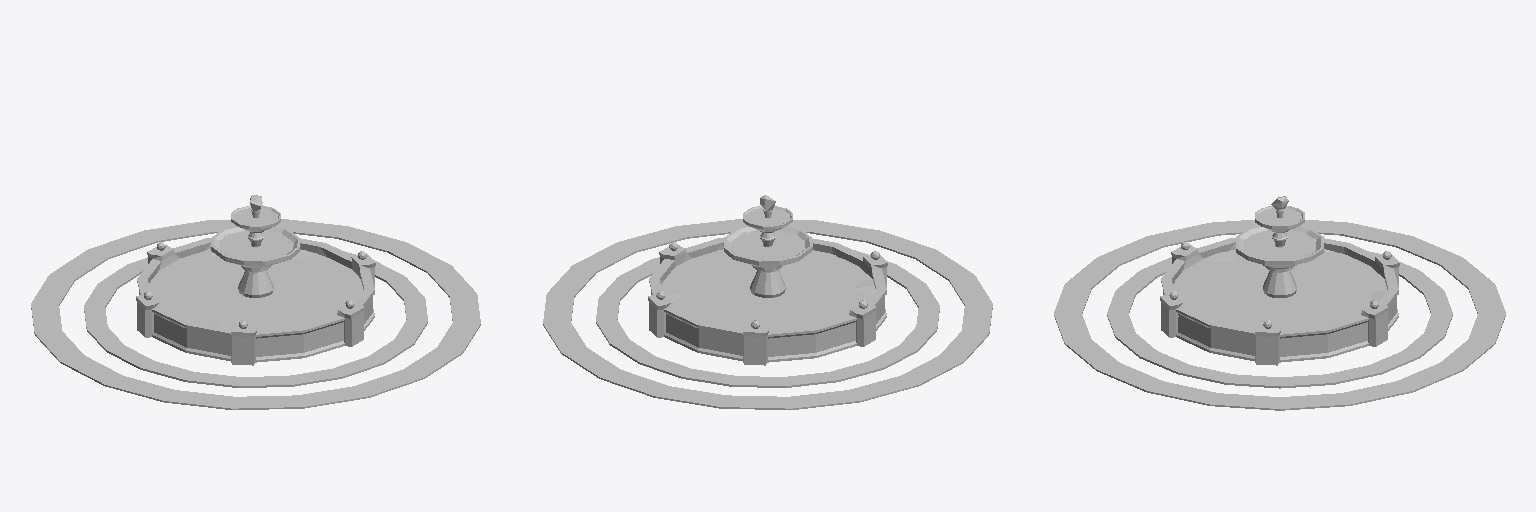
Rendered from Fountain2.obj.
3 renders of one model, left to right at view 1: azimuth 30°, elevation 25°; view 2: azimuth 150°, elevation 25°; view 3: azimuth 270°, elevation 25°, orthographic.
Parts seen in each view (by area): view 1: Fountain Base_Bevel_Outer Ground_stuff, Fountain Water_Bottom Water, Fountain_Ring Bowls Fountain, Fountain Ground_stuff Base_Bevel_Inner, Fountain Water Water_Bottom1, Bowls Fountain Bowl_Bottom, Fountain Pillars Pillar_Block_Base, Fountain Water Water_Bottom2; view 2: Fountain Base_Bevel_Outer Ground_stuff, Fountain Water_Bottom Water, Fountain_Ring Bowls Fountain, Fountain Ground_stuff Base_Bevel_Inner, Fountain Water Water_Bottom1, Bowls Fountain Bowl_Bottom, Fountain Pillars Pillar_Block_Base, Fountain Water Water_Bottom2; view 3: Fountain Base_Bevel_Outer Ground_stuff, Fountain Water_Bottom Water, Fountain_Ring Bowls Fountain, Fountain Ground_stuff Base_Bevel_Inner, Fountain Water Water_Bottom1, Bowls Fountain Bowl_Bottom, Fountain Pillars Pillar_Block_Base, Fountain Water Water_Bottom2.
Part boxes in pixels (x1,y1,x2,y2): Fountain Base_Bevel_Outer Ground_stuff: (31, 219, 480, 409); Fountain Water_Bottom Water: (149, 249, 362, 329); Fountain_Ring Bowls Fountain: (136, 238, 375, 365); Fountain Ground_stuff Base_Bevel_Inner: (84, 251, 427, 387); Fountain Water Water_Bottom1: (218, 230, 293, 259); Bowls Fountain Bowl_Bottom: (211, 226, 300, 269); Fountain Pillars Pillar_Block_Base: (238, 266, 273, 297); Fountain Water Water_Bottom2: (234, 208, 278, 225); Fountain Base_Bevel_Outer Ground_stuff: (543, 219, 992, 409); Fountain Water_Bottom Water: (661, 249, 875, 329); Fountain_Ring Bowls Fountain: (648, 237, 887, 365); Fountain Ground_stuff Base_Bevel_Inner: (596, 250, 939, 387); Fountain Water Water_Bottom1: (730, 230, 805, 259); Bowls Fountain Bowl_Bottom: (723, 226, 812, 269); Fountain Pillars Pillar_Block_Base: (750, 266, 785, 297); Fountain Water Water_Bottom2: (746, 208, 789, 225); Fountain Base_Bevel_Outer Ground_stuff: (1054, 220, 1505, 410); Fountain Water_Bottom Water: (1173, 249, 1386, 329); Fountain_Ring Bowls Fountain: (1160, 238, 1399, 365); Fountain Ground_stuff Base_Bevel_Inner: (1107, 251, 1452, 388); Fountain Water Water_Bottom1: (1244, 230, 1316, 259); Bowls Fountain Bowl_Bottom: (1236, 226, 1323, 268); Fountain Pillars Pillar_Block_Base: (1263, 268, 1296, 297); Fountain Water Water_Bottom2: (1258, 208, 1301, 225).
Bounding box in the file's own units: 113 × 32.73 × 113.